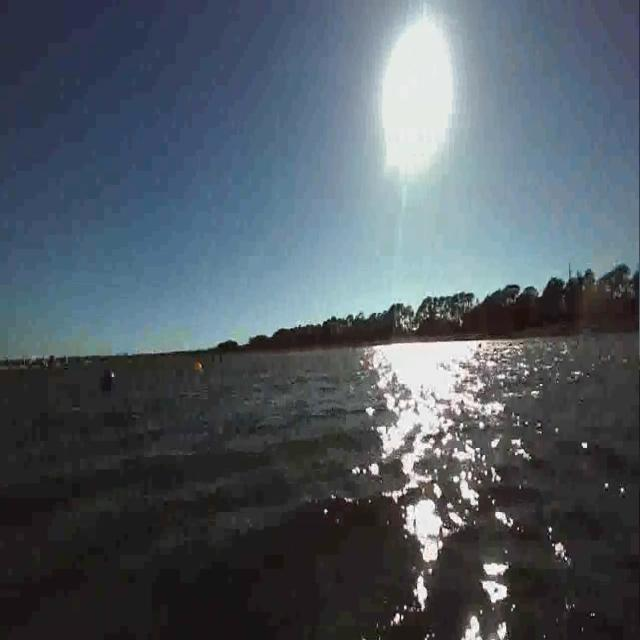black-buoy: (102, 362, 117, 382)
